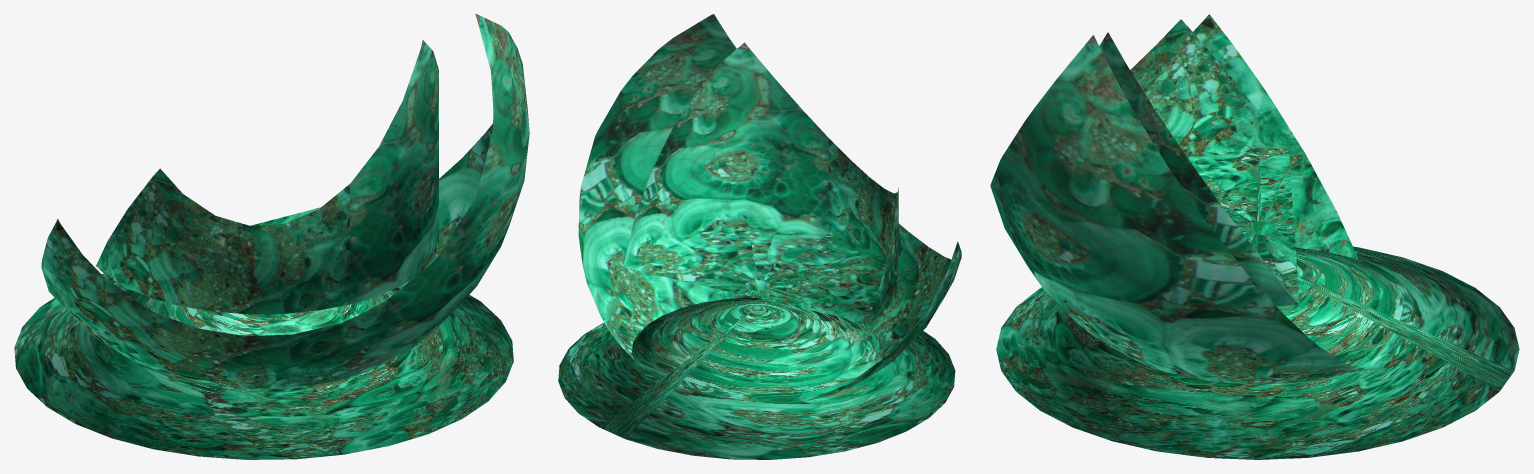
File: bowlpart4.obj
The picture shows the model from 3 angles, left to right: view 1: azimuth 30°, elevation 25°; view 2: azimuth 150°, elevation 25°; view 3: azimuth 270°, elevation 25°; orthographic projection. The views are drawn at different scales.
Visible parts, largest first — view 1: Sphere.001, Cone; view 2: Sphere.001, Cone; view 3: Sphere.001, Cone.
Boxes of the visible parts, box(x1,y1,x2,y2) form: Sphere.001: box(41, 14, 529, 388); Cone: box(14, 273, 513, 459); Sphere.001: box(578, 14, 961, 400); Cone: box(558, 297, 955, 459); Sphere.001: box(990, 14, 1364, 384); Cone: box(996, 246, 1519, 459).
Bounding box in the file's own units: 9.7 × 7.43 × 9.32.
Materials: 1 (1 with a texture image).
